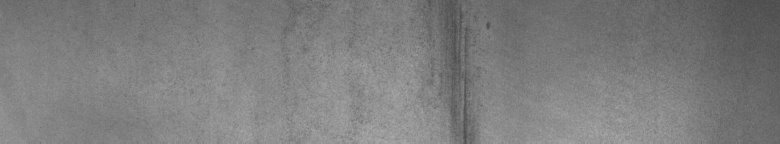ka: (432, 6, 490, 136)
